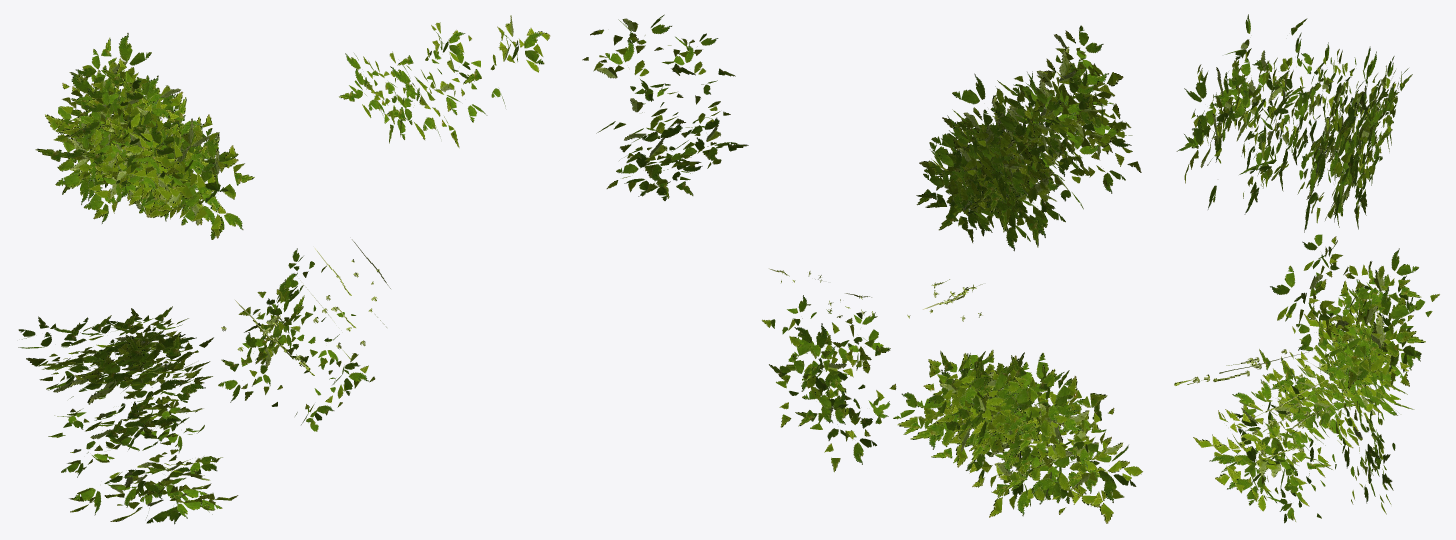
File: plant_cover_2.glb
3 views of the same model, side by side, from view 1: azimuth 30°, elevation 25°; view 2: azimuth 150°, elevation 25°; view 3: azimuth 270°, elevation 25° (orthographic). The views are drawn at different scales.
Parts seen in each view (by area): view 1: Object_16; view 2: Object_16; view 3: Object_16.
Part boxes in pixels (left/top/right/bottom): Object_16: left=18, top=15, right=550, bottom=524; Object_16: left=582, top=14, right=1142, bottom=523; Object_16: left=1174, top=14, right=1439, bottom=523.
Size of the model in its own units: 4.37 by 3.83 by 1.96.
1 material, 1 textured.
